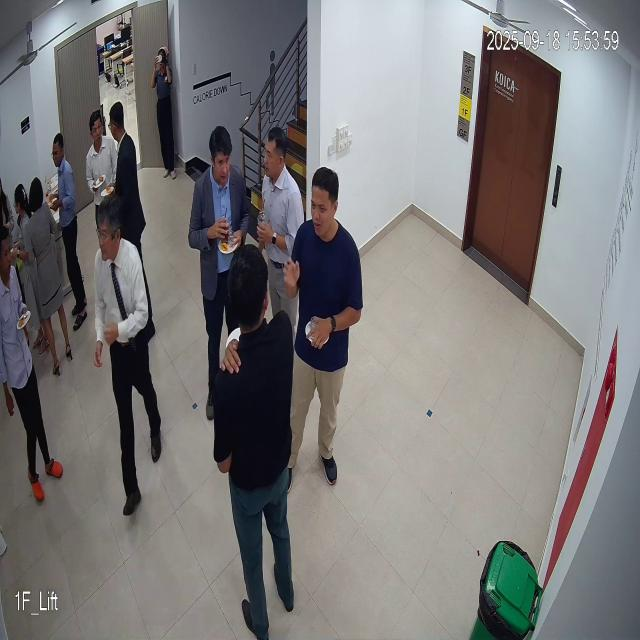face: (305, 165, 340, 239), (94, 197, 125, 266), (208, 119, 235, 191), (260, 125, 289, 183)
